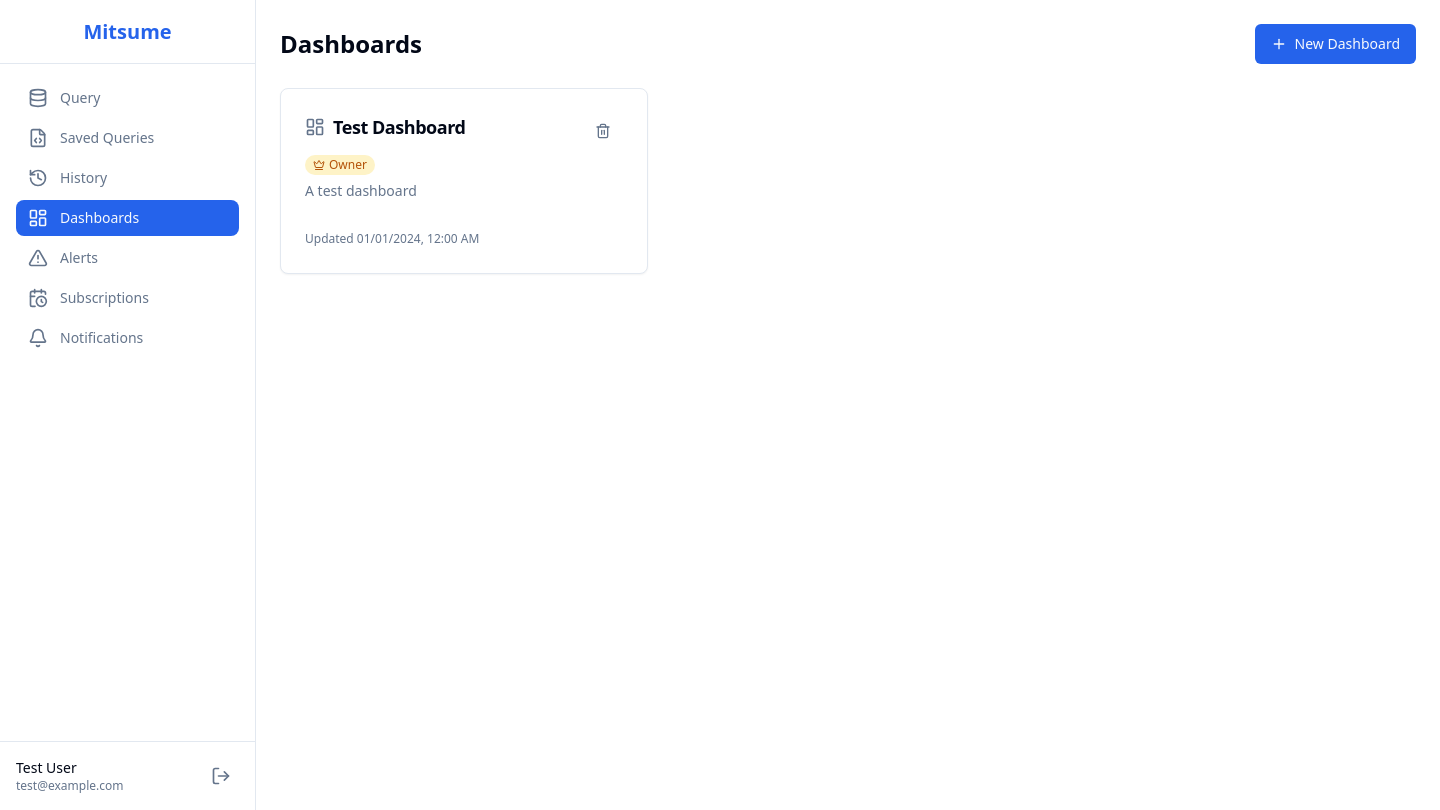
Scenario: ダッシュボード統合テスト › ダッシュボードを削除できる
Check: the heading "Test Dashboard" is shown, box [333, 113, 466, 141]
// Click delete button on the dashboard card
What coordinates should you click on to do the following:
click the button named "delete dashboard"
I would click on:
 (603, 131)
Its box is [583, 113, 623, 149].
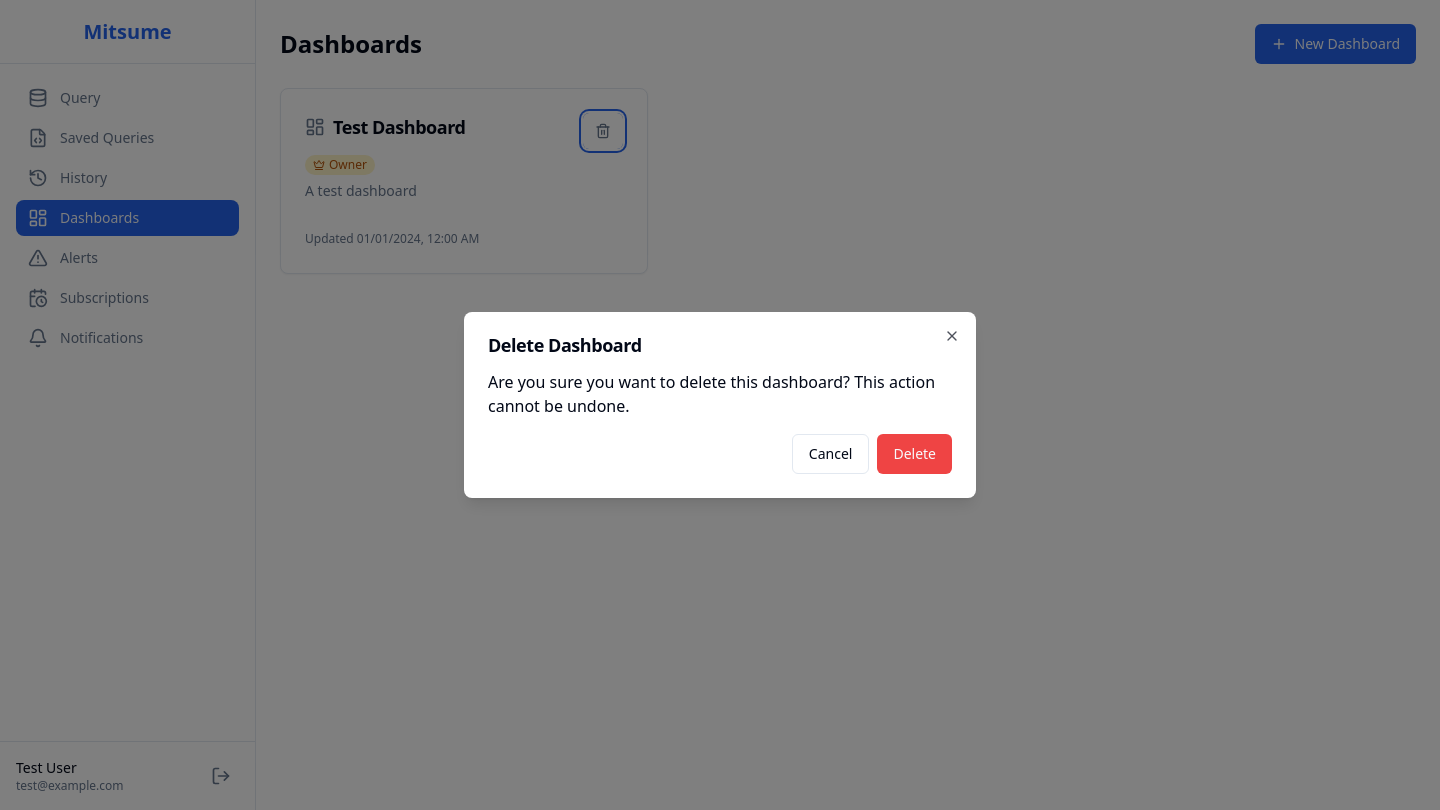
Check: the heading "Delete Dashboard" is shown, box [488, 333, 642, 357]
What coordinates should you click on to do the following:
click the button "Delete"
I would click on:
 (915, 454)
Its box is [877, 434, 952, 474].
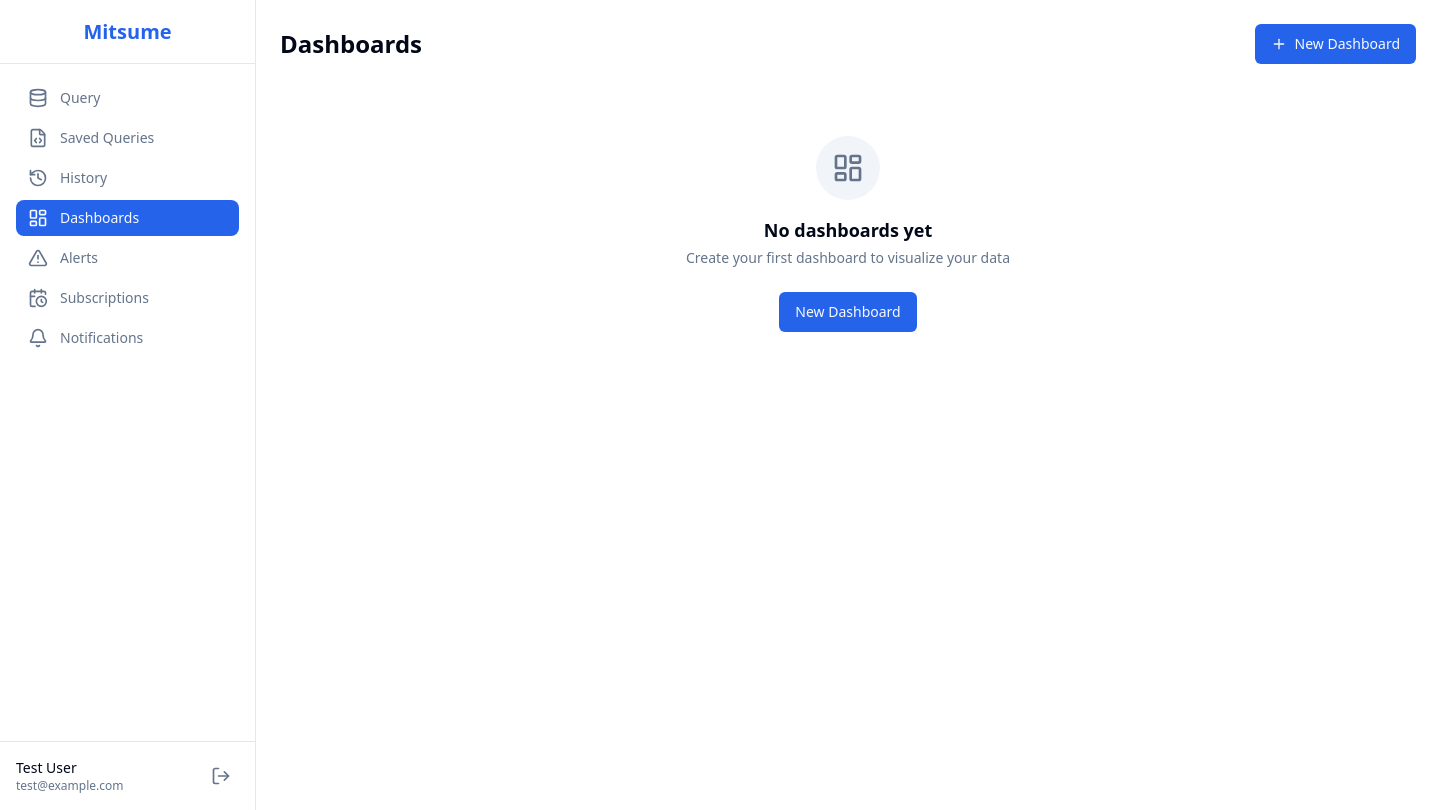
Check: the heading "Delete Dashboard" is gone
